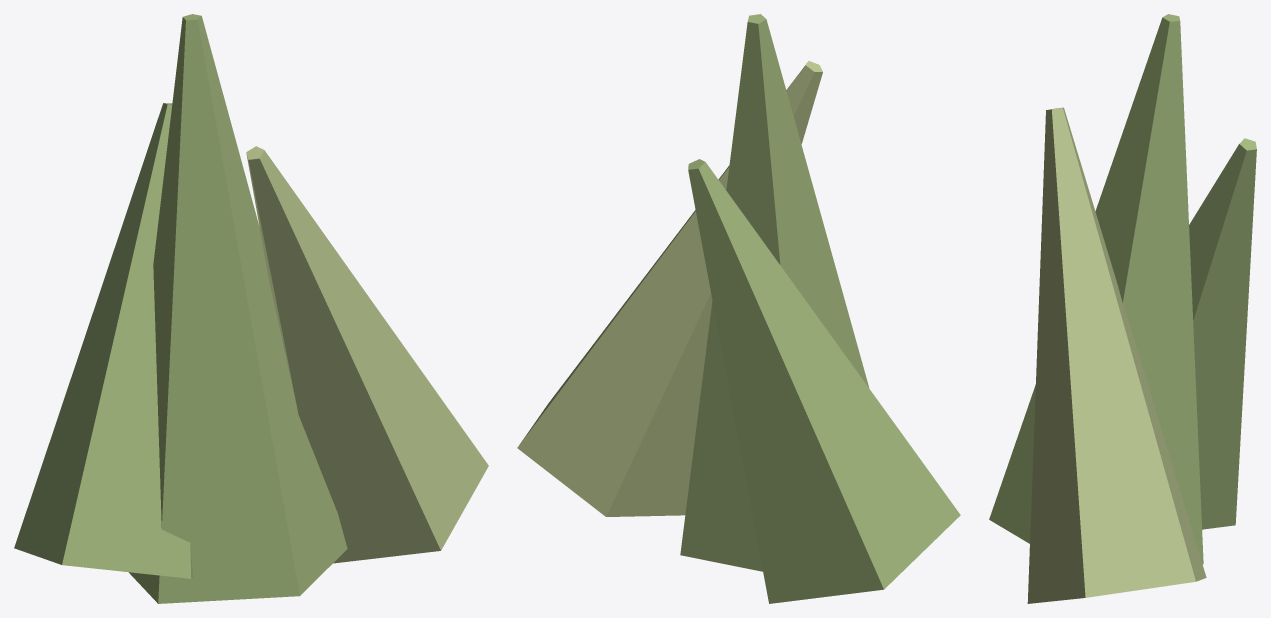
File: tuft.glb
3 views of the same model, side by side, from view 1: azimuth 30°, elevation 25°; view 2: azimuth 150°, elevation 25°; view 3: azimuth 270°, elevation 25° (orthographic). The views are drawn at different scales.
Parts seen in each view (by area): view 1: Blade_0, Blade_1, Blade_2; view 2: Blade_2, Blade_1, Blade_0; view 3: Blade_1, Blade_0, Blade_2.
Boxes of the visible parts, x1,y1,x2,y2 form: Blade_0: (129,14,347,603); Blade_1: (246,146,488,563); Blade_2: (14,103,193,578); Blade_2: (688,159,960,603); Blade_1: (517,61,822,516); Blade_0: (680,14,869,571); Blade_1: (1027,107,1206,603); Blade_0: (989,14,1203,564); Blade_2: (1189,138,1256,529).
Size of the model in its own units: 0.48 by 0.6005 by 0.2752.
